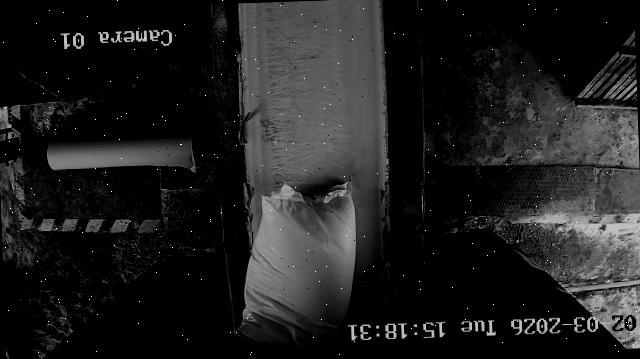bag: (228, 180, 359, 359)
